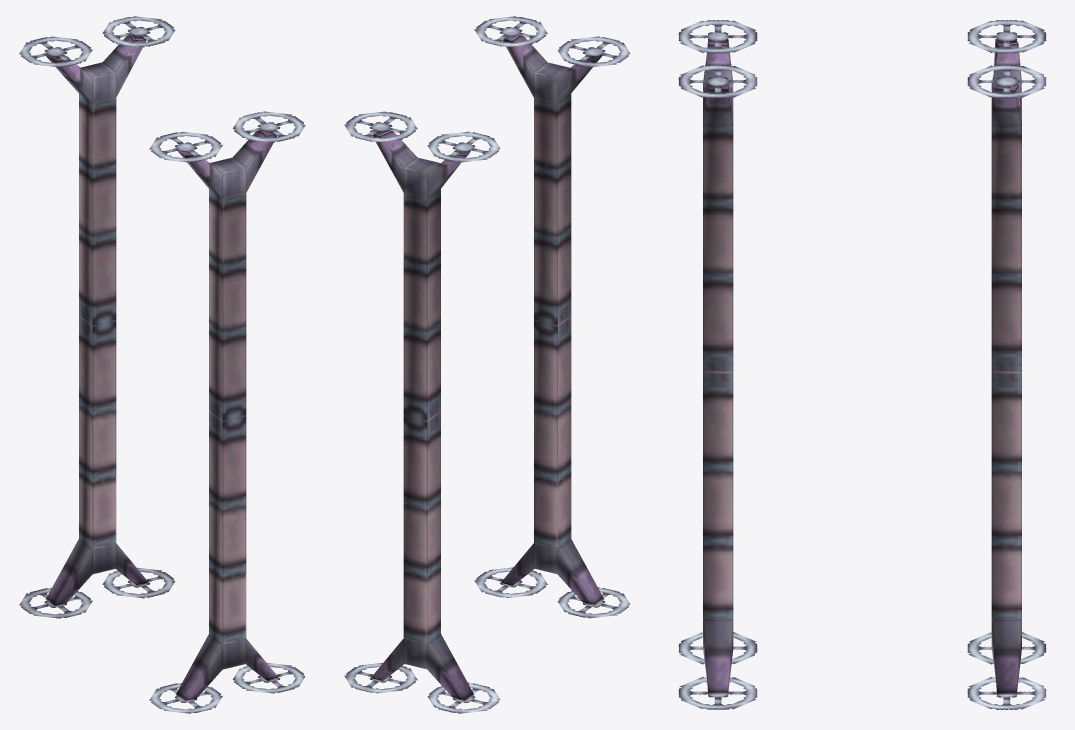
3 views of the same model, side by side, from view 1: azimuth 30°, elevation 25°; view 2: azimuth 150°, elevation 25°; view 3: azimuth 270°, elevation 25° (orthographic). The views are drawn at different scales.
Visible parts, largest first — view 1: T1L7M003_5; view 2: T1L7M003_5; view 3: T1L7M003_5.
Part boxes in pixels (bbox=[...]): T1L7M003_5: bbox=[19, 16, 305, 713]; T1L7M003_5: bbox=[344, 16, 630, 713]; T1L7M003_5: bbox=[678, 20, 1046, 709].
Bounding box in the file's own units: 1.19 × 3.76 × 2.21.
